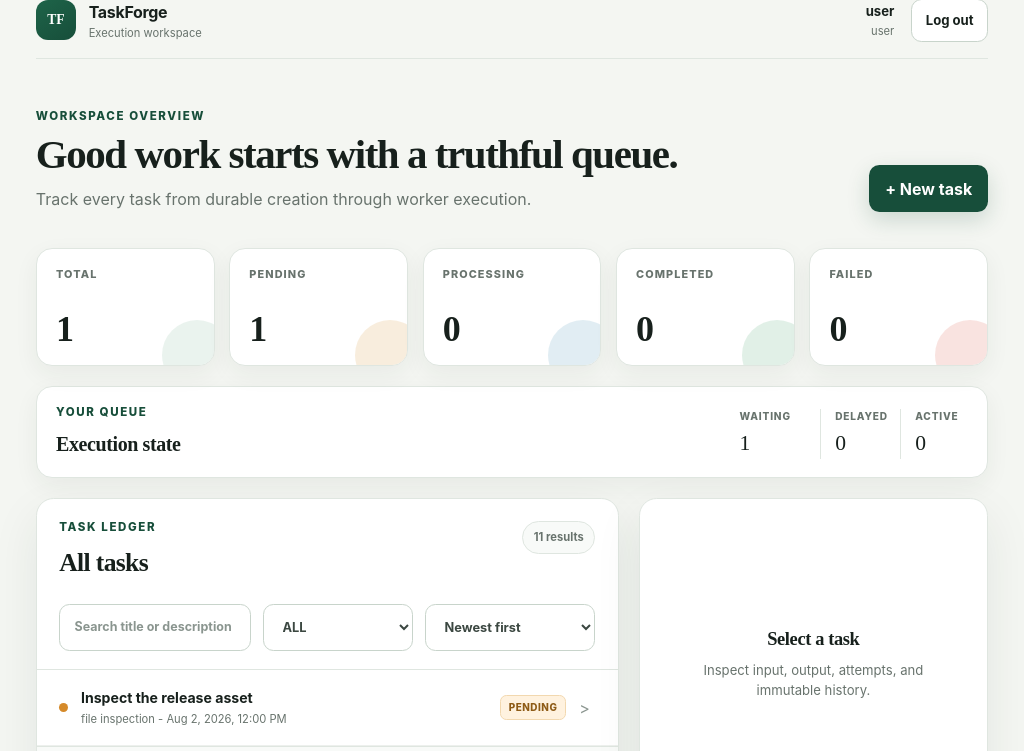
Test case: Task workspace › requires confirmation before deleting a task
The width and height of the screenshot is (1024, 751).
Step 1. Click the button "Inspect the release asset" → (167, 698), box [37,670,618,746]
(page scrolled)
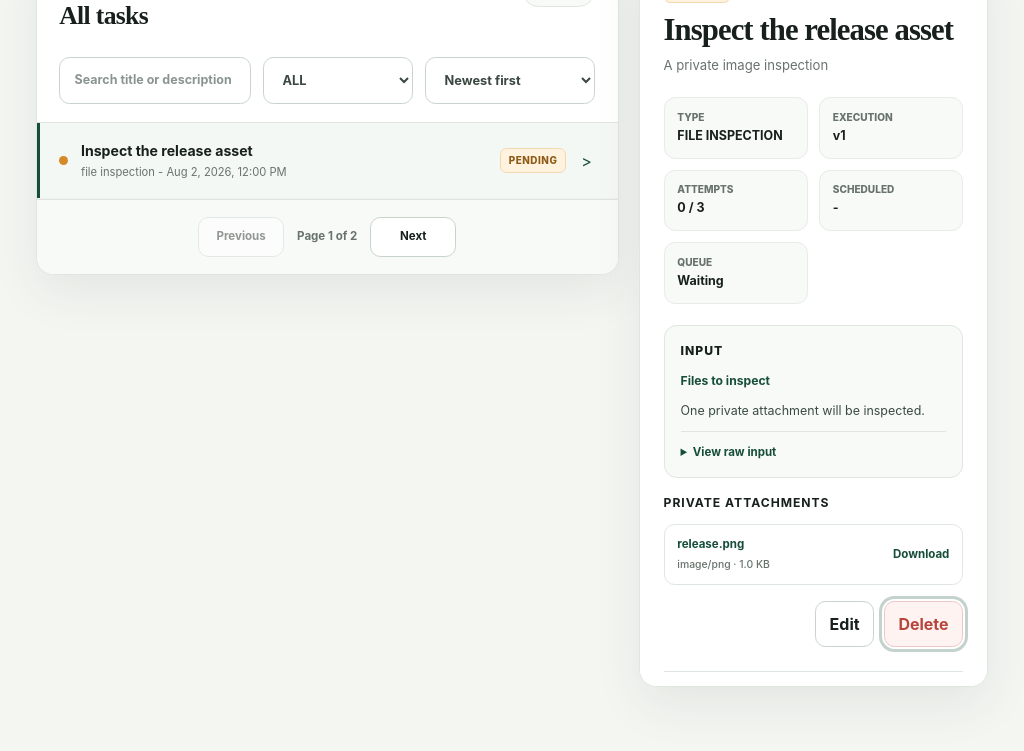
Step 2. Click the button "Delete" → (924, 624), box [884,601,963,648]
(page scrolled)
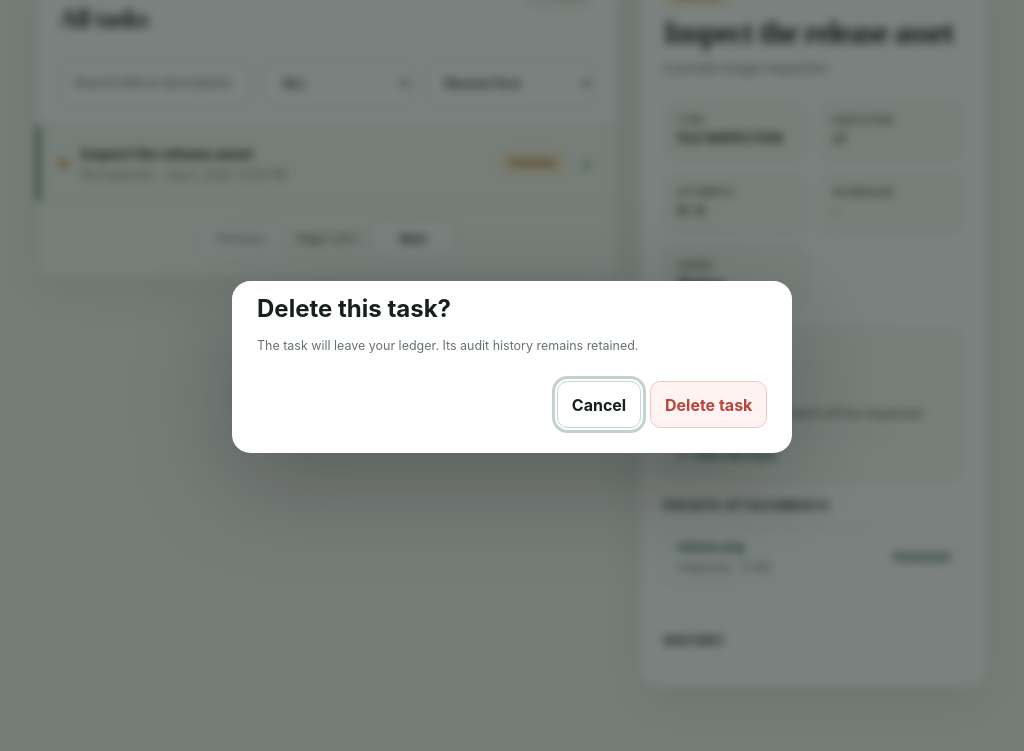
Check: the dialog "Delete this task?" is shown
Step 3. Press Tab in the dialog "Delete this task?", box [232,281,792,453]
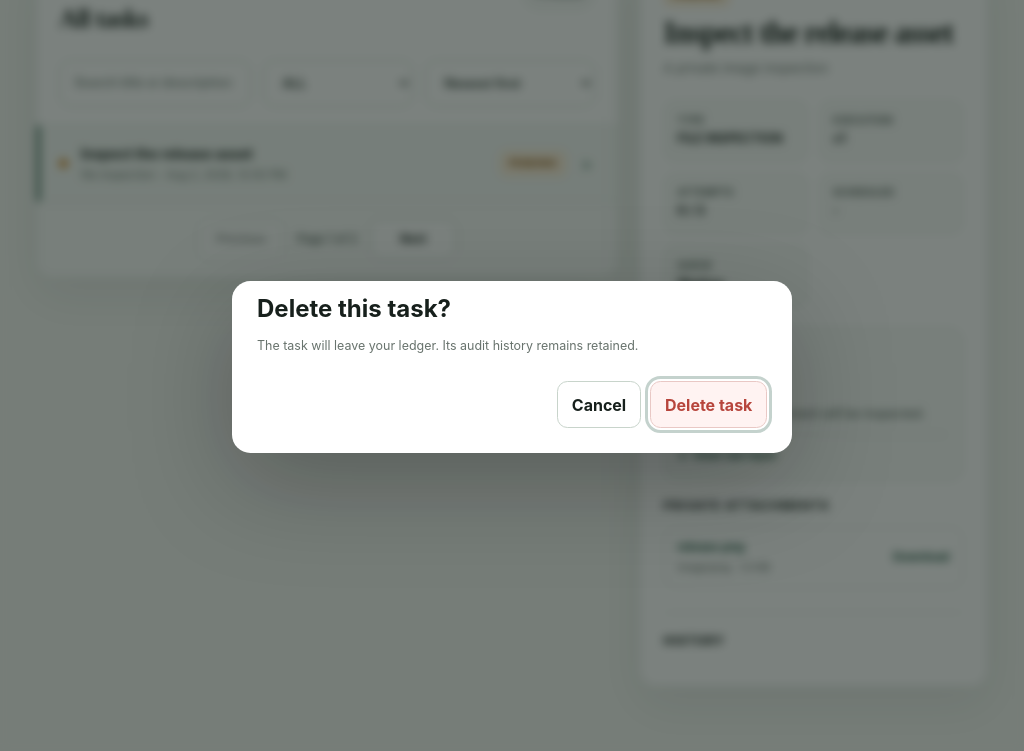
Step 4. Press Tab in the dialog "Delete this task?", box [232,281,792,453]
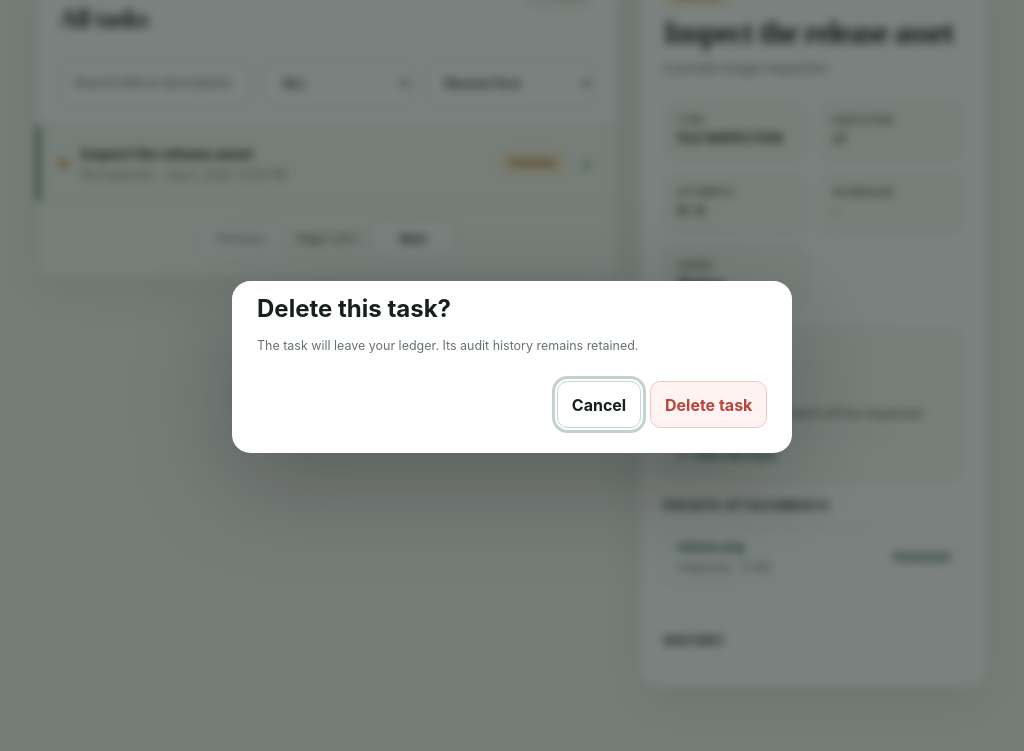
Step 5. Press Escape in the dialog "Delete this task?", box [232,281,792,453]
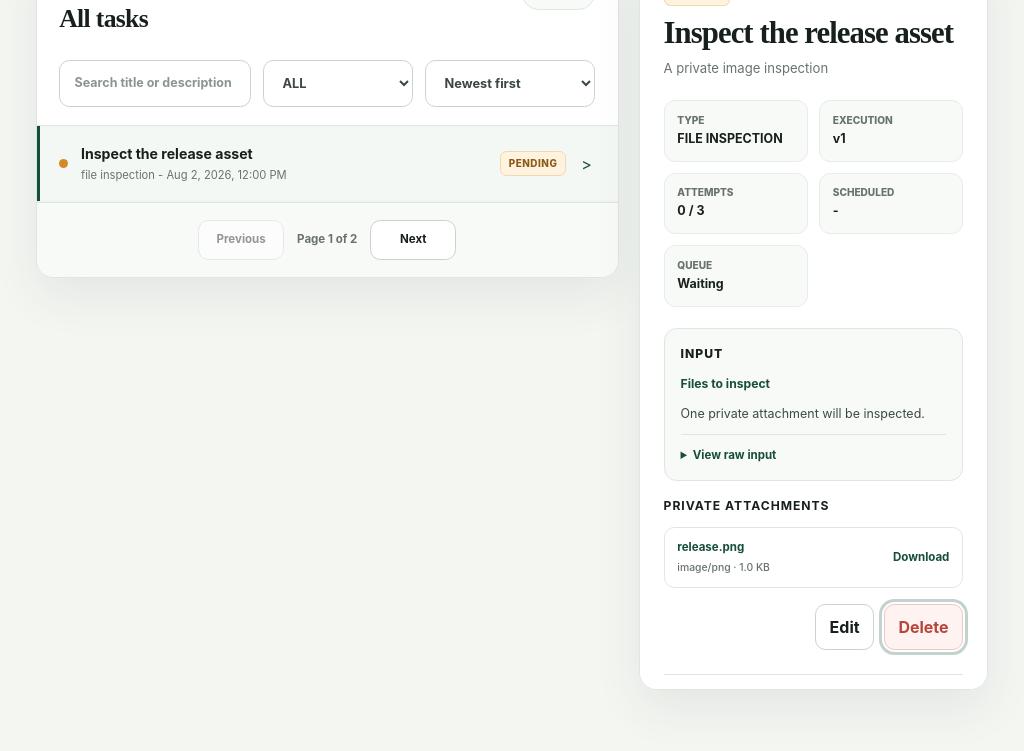
Check: the dialog is gone
